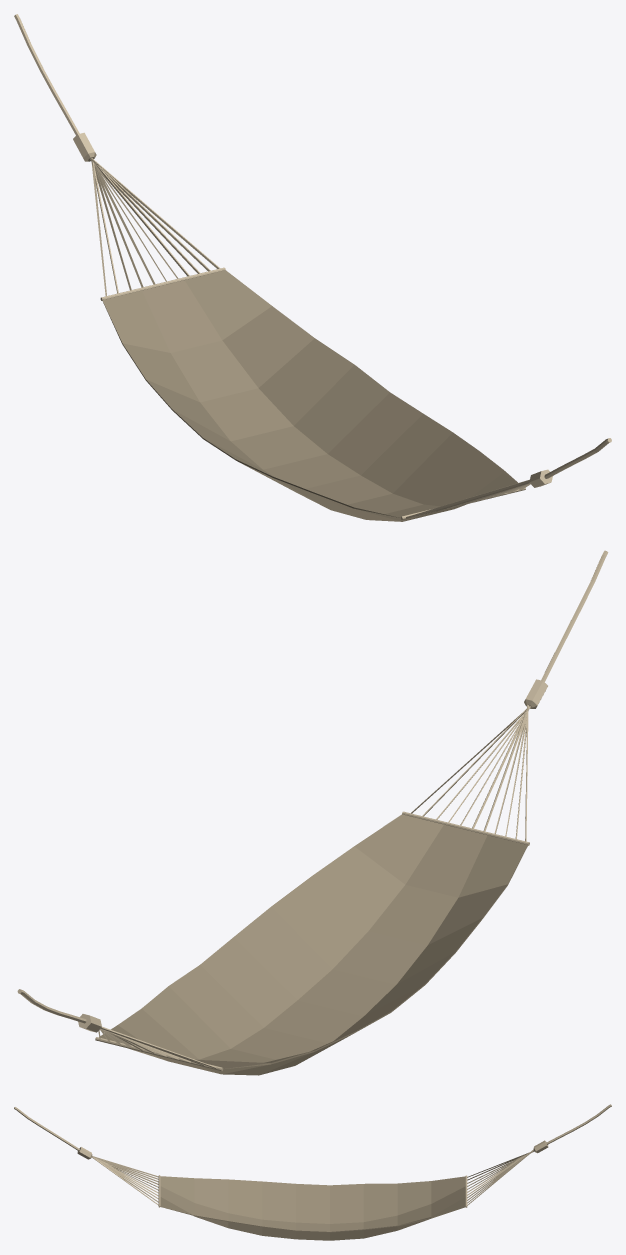
Rendered from hangmat.fbx.
3 renders of one model, top to bottom at view 1: azimuth 30°, elevation 25°; view 2: azimuth 150°, elevation 25°; view 3: azimuth 270°, elevation 25°, orthographic. The views are drawn at different scales.
Parts seen in each view (by area): view 1: polySurface28, polySurface30, polySurface13, polySurface2; view 2: polySurface28, polySurface30, polySurface2, polySurface29; view 3: polySurface28, polySurface30, polySurface2, polySurface13.
Boxes of the visible parts, bbox=[...] form: polySurface28: bbox=[102, 270, 517, 521]; polySurface30: bbox=[90, 158, 530, 518]; polySurface13: bbox=[14, 14, 96, 161]; polySurface2: bbox=[529, 438, 611, 487]; polySurface28: bbox=[99, 814, 528, 1075]; polySurface30: bbox=[98, 704, 530, 1068]; polySurface2: bbox=[524, 550, 608, 708]; polySurface29: bbox=[95, 811, 529, 1071]; polySurface28: bbox=[160, 1176, 465, 1240]; polySurface30: bbox=[92, 1149, 534, 1205]; polySurface2: bbox=[14, 1107, 92, 1159]; polySurface13: bbox=[533, 1104, 611, 1153].
Bounding box in the file's own units: 5.74 × 7.29 × 31.02.
